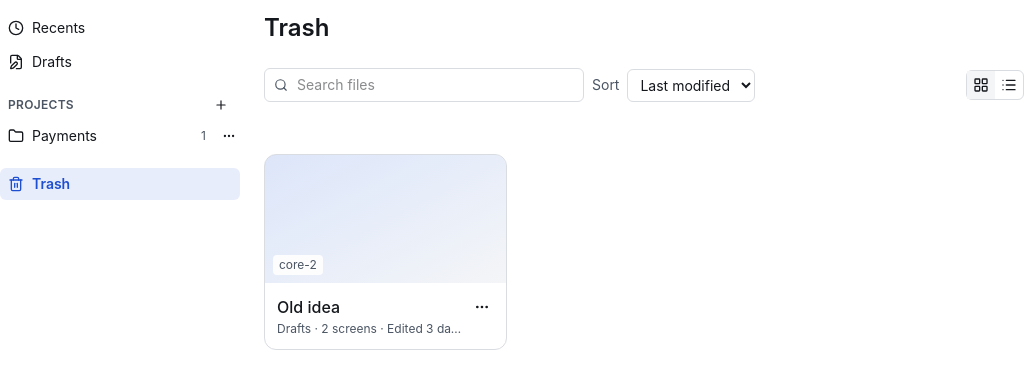
Scenario: file browser › restores from Trash, which offers nothing else
Expected: the heading "Trash" is shown, [264, 12, 330, 44]
Click the button named "Actions for Old idea" at (482, 307), box [470, 295, 494, 319]
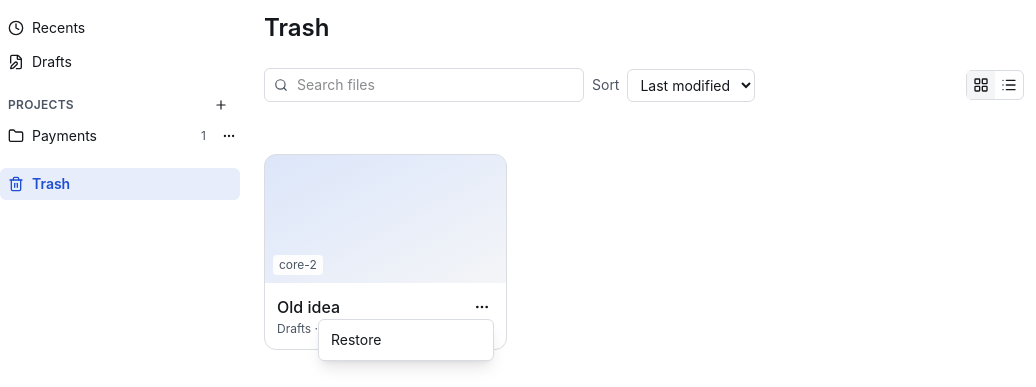
Result: the menu items read "Restore", in this order
Click the menu item "Restore" at (356, 340), box [331, 331, 381, 348]
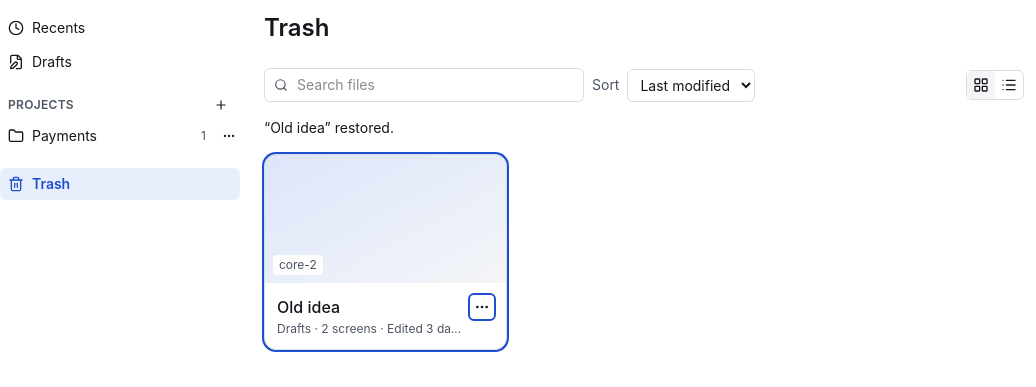
Result: the text "“Old idea” restored." is shown at [264, 119, 394, 136]
